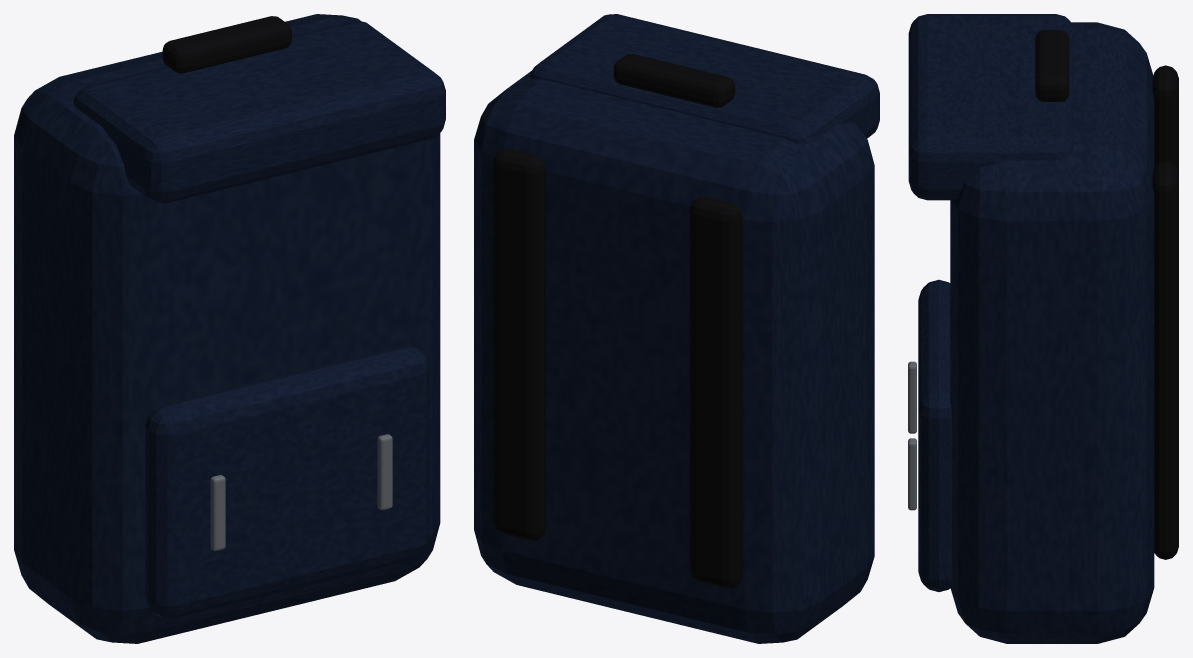
File: mochila.obj
3 renders of one model, left to right at view 1: azimuth 30°, elevation 25°; view 2: azimuth 150°, elevation 25°; view 3: azimuth 270°, elevation 25°, orthographic. The views are drawn at different scales.
Parts seen in each view (by area): view 1: Mochila_Cuerpo, Mochila_Bolsillo, Mochila_Tapa, Mochila_Asa, Mochila_Cierre.001, Mochila_Cierre; view 2: Mochila_Cuerpo, Mochila_Tapa, Mochila_Correa, Mochila_Correa.001, Mochila_Asa; view 3: Mochila_Cuerpo, Mochila_Tapa, Mochila_Bolsillo, Mochila_Correa.001, Mochila_Correa, Mochila_Asa, Mochila_Cierre, Mochila_Cierre.001.
Boxes of the visible parts, <box> form: Mochila_Cuerpo: <box>14,14,440,643</box>; Mochila_Bolsillo: <box>145,346,429,618</box>; Mochila_Tapa: <box>73,21,445,203</box>; Mochila_Asa: <box>162,16,291,73</box>; Mochila_Cierre.001: <box>377,434,392,510</box>; Mochila_Cierre: <box>210,475,225,550</box>; Mochila_Cuerpo: <box>474,70,874,643</box>; Mochila_Tapa: <box>530,14,879,144</box>; Mochila_Correa: <box>689,197,742,588</box>; Mochila_Correa.001: <box>493,149,545,540</box>; Mochila_Asa: <box>613,53,735,107</box>; Mochila_Cuerpo: <box>950,22,1154,643</box>; Mochila_Tapa: <box>908,14,1073,200</box>; Mochila_Bolsillo: <box>918,279,951,591</box>; Mochila_Correa.001: <box>1152,161,1178,559</box>; Mochila_Correa: <box>1152,65,1178,173</box>; Mochila_Asa: <box>1035,30,1069,102</box>; Mochila_Cierre: <box>908,361,916,433</box>; Mochila_Cierre.001: <box>908,438,916,510</box>.
Size of the model in its own units: 0.52 by 0.7675 by 0.3585.
3 materials, 1 textured.
